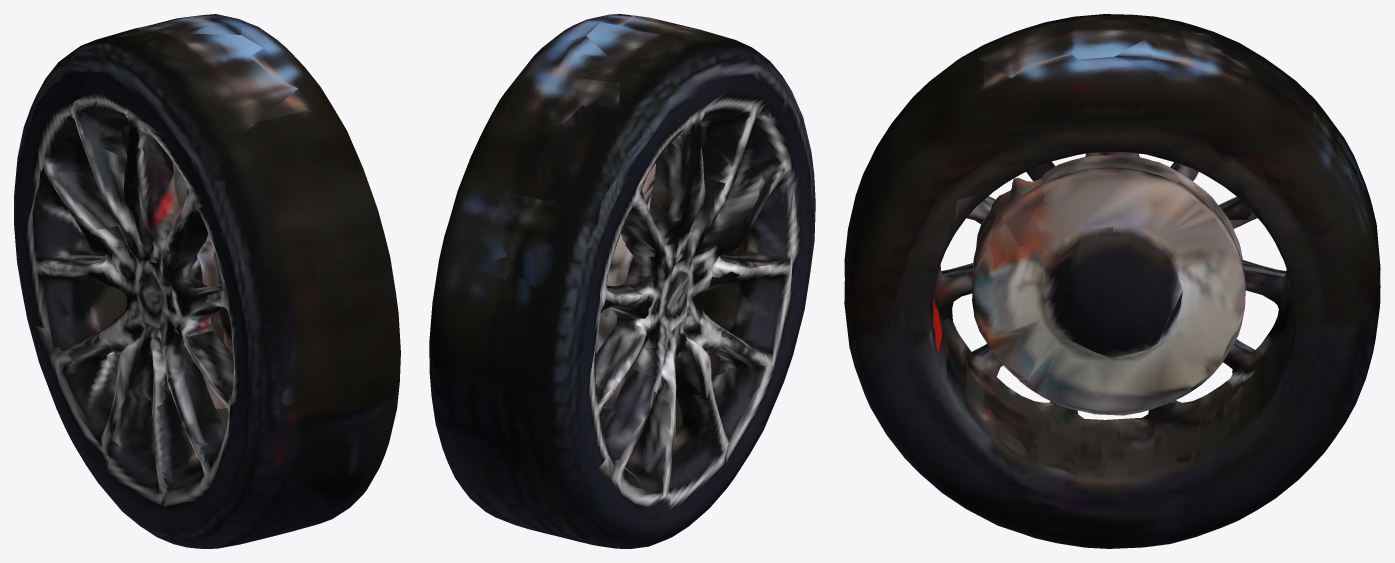
File: AvanteN_Wheel_FR.fbx
3 renders of one model, left to right at view 1: azimuth 30°, elevation 25°; view 2: azimuth 150°, elevation 25°; view 3: azimuth 270°, elevation 25°, orthographic.
Parts seen in each view (by area): view 1: AvanteN_Wheel_FR; view 2: AvanteN_Wheel_FR; view 3: AvanteN_Wheel_FR.
Part boxes in pixels (<box>): AvanteN_Wheel_FR: <box>14,14,400,548</box>; AvanteN_Wheel_FR: <box>429,14,815,548</box>; AvanteN_Wheel_FR: <box>844,14,1380,548</box>.
Size of the model in its own units: 0.2303 by 0.6999 by 0.7019.
1 material, 1 textured.
